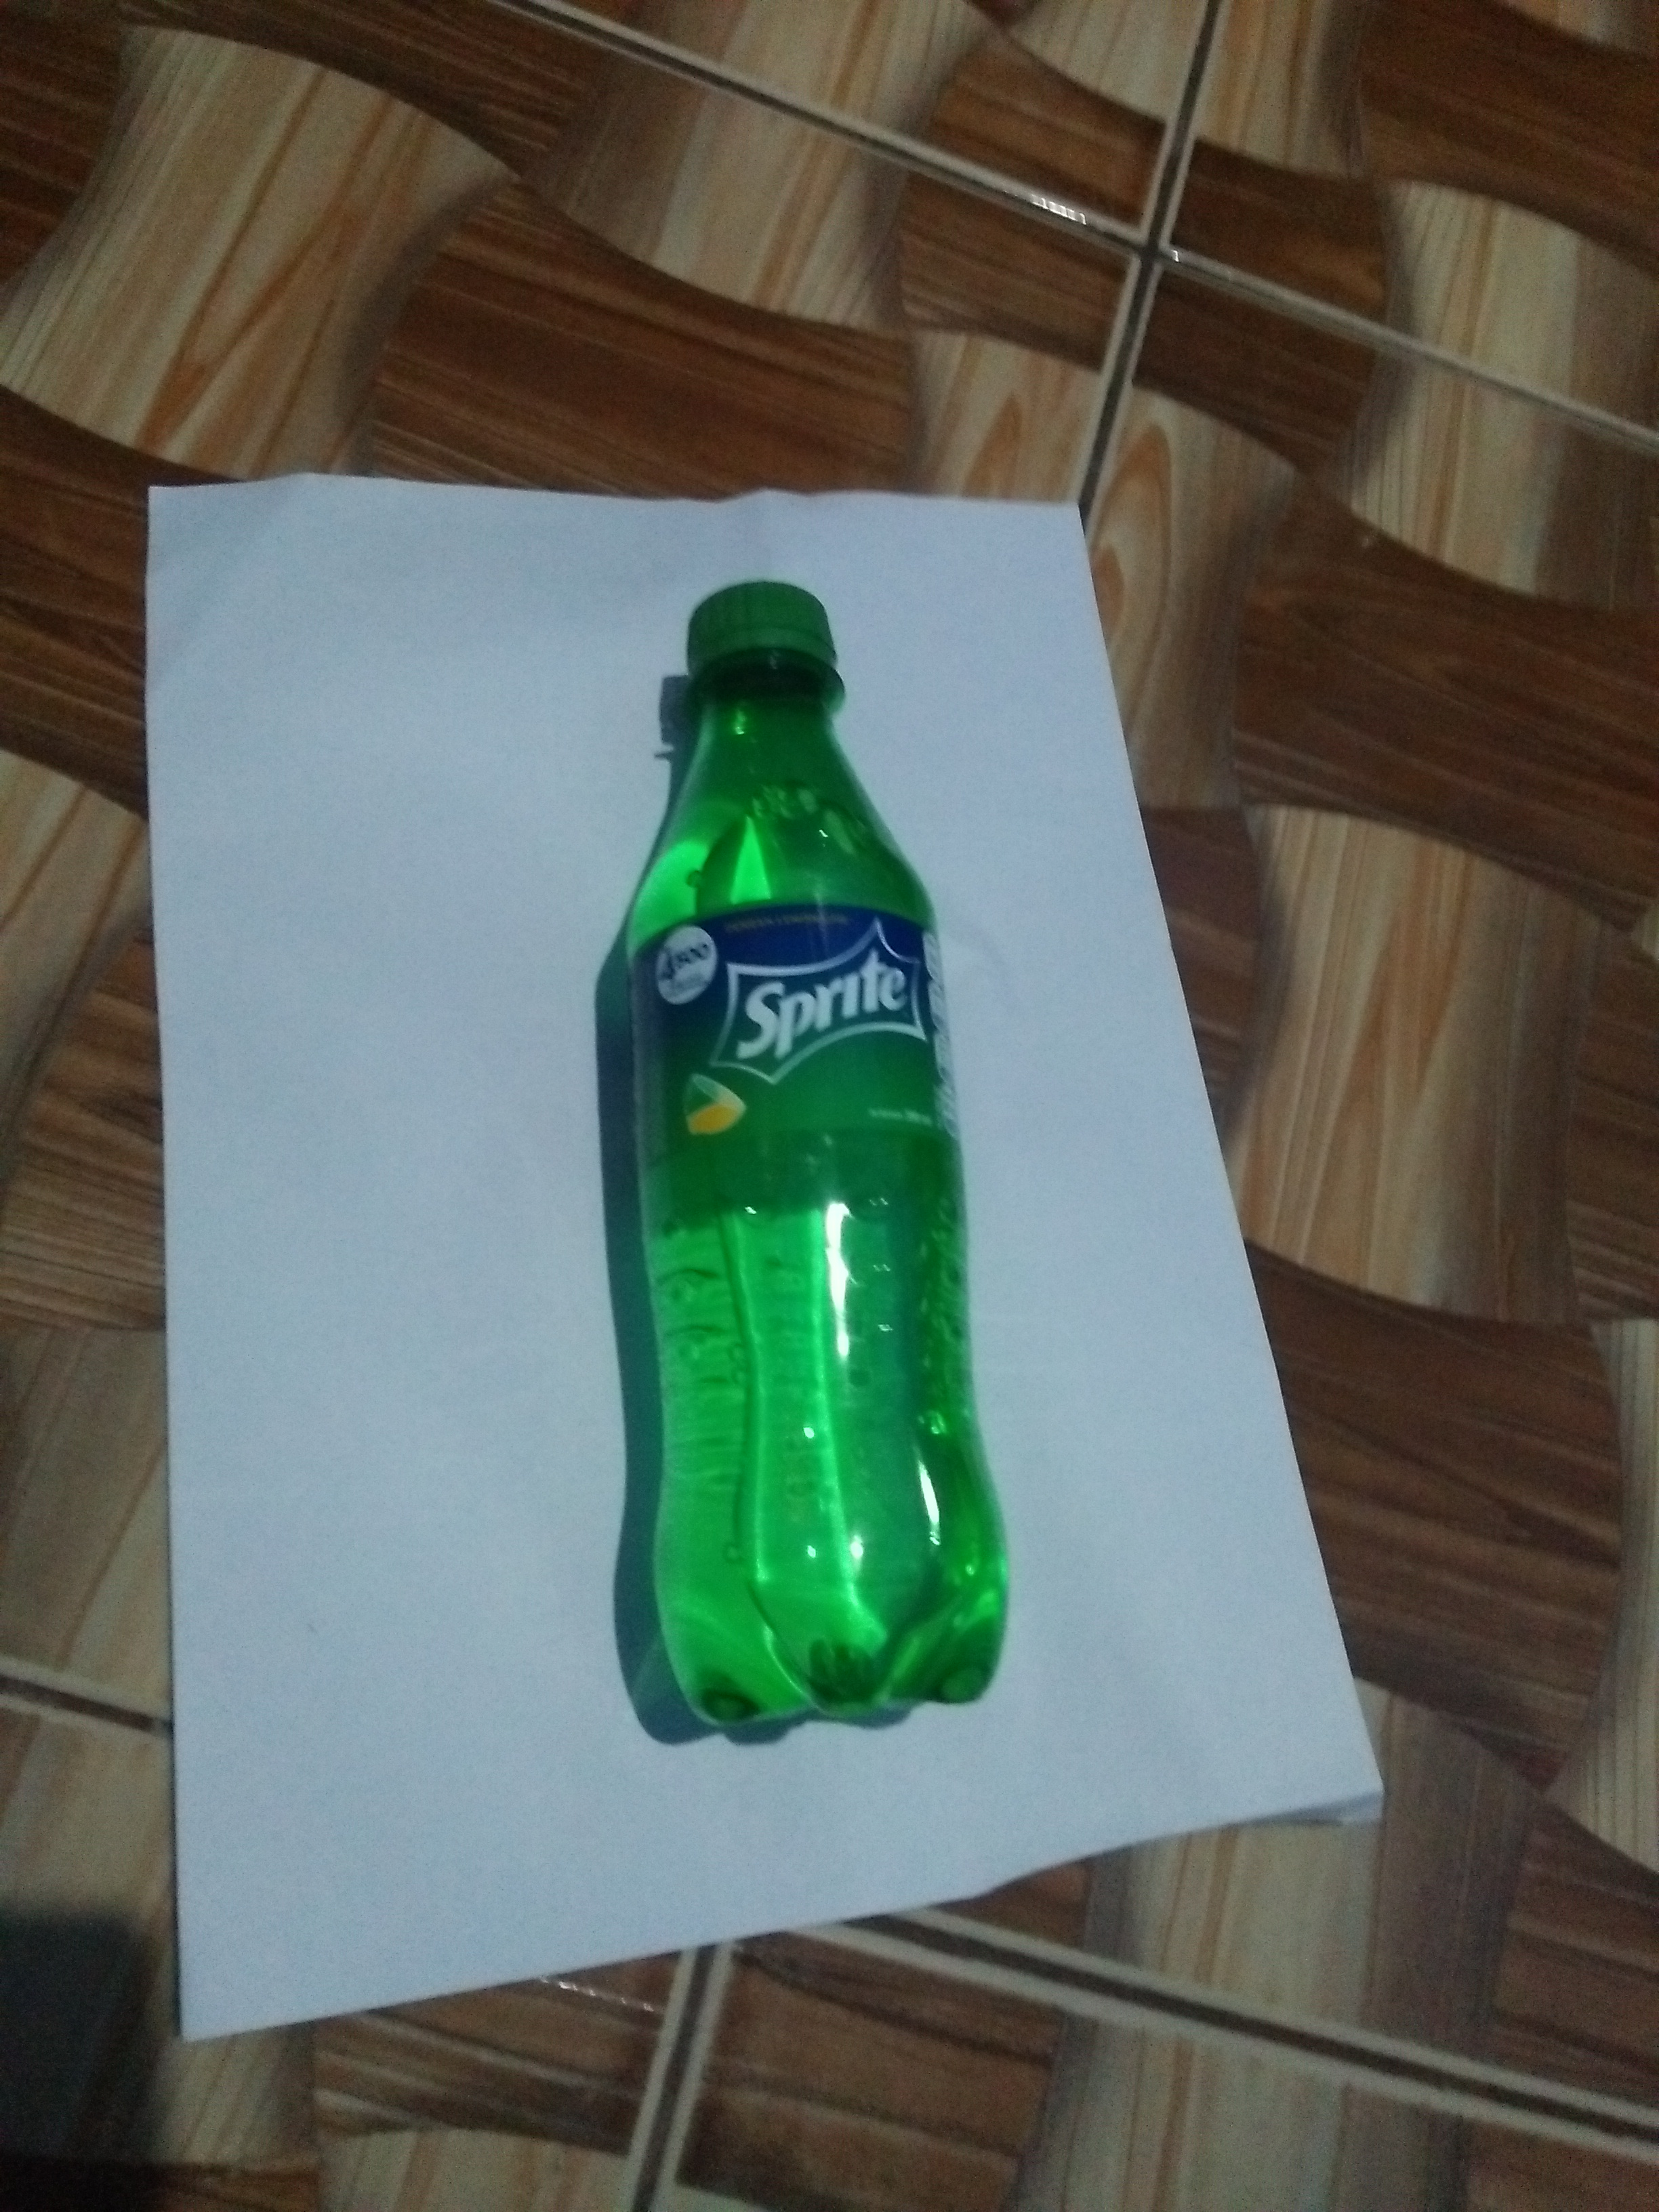Sprite: (598, 570, 1037, 1754)
